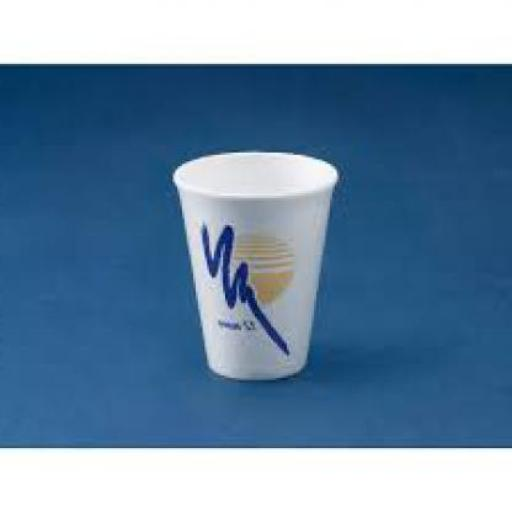paper: (176, 148, 342, 380)
